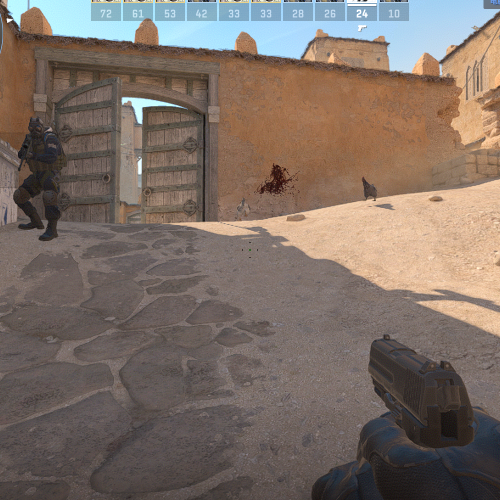chicken: (361, 175, 379, 203), (236, 198, 252, 222)
ct_body: (13, 117, 65, 241)
ct_head: (27, 116, 44, 139)
